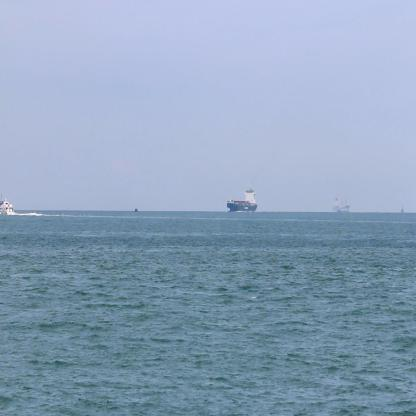Container Ship: (226, 181, 258, 215), (330, 192, 351, 214)
